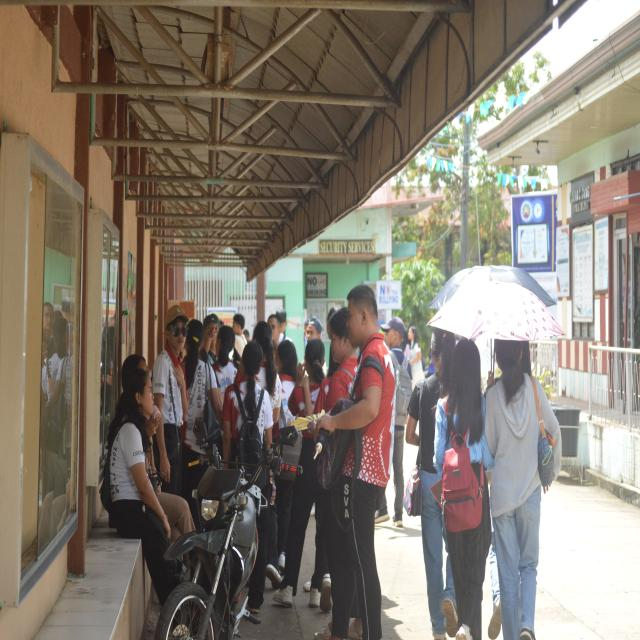person: (314, 285, 395, 639), (486, 340, 561, 639), (434, 340, 493, 639), (108, 369, 177, 604), (406, 329, 458, 639), (181, 320, 221, 521), (274, 430, 319, 606), (153, 305, 189, 494), (223, 341, 272, 460), (253, 321, 281, 424), (393, 405, 406, 527), (408, 325, 424, 388), (232, 314, 248, 358)
